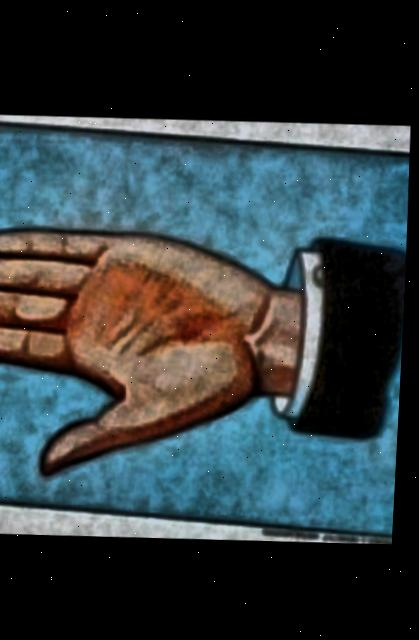La Mano: (0, 132, 410, 535)
